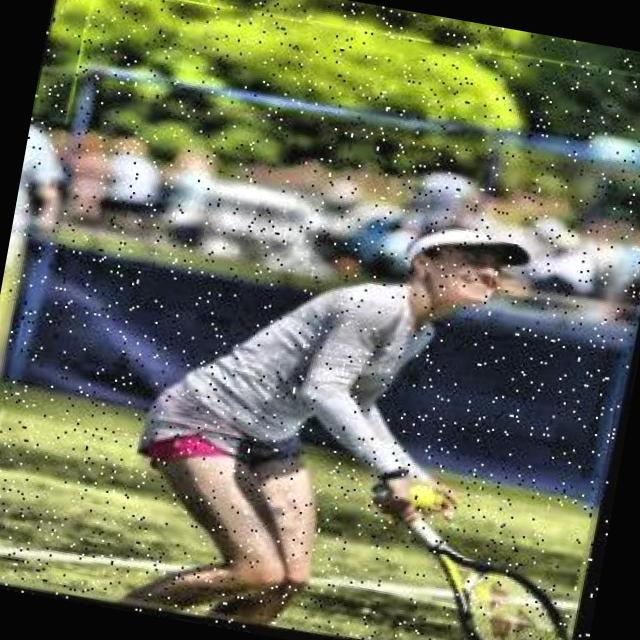Tennis Ball: (409, 481, 448, 520)
